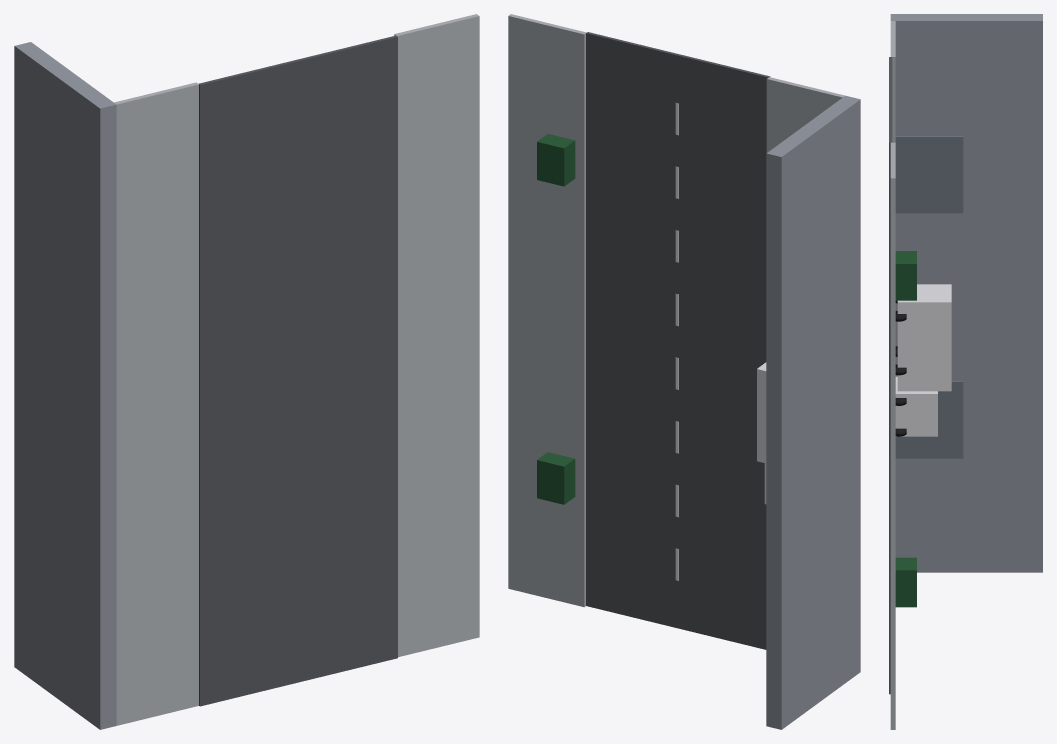
Rendered from industrial_street.obj.
The picture shows the model from 3 angles, left to right: view 1: azimuth 30°, elevation 25°; view 2: azimuth 150°, elevation 25°; view 3: azimuth 270°, elevation 25°; orthographic projection. The views are drawn at different scales.
Visible parts, largest first — view 1: DarkIndustrialGLB; view 2: DarkIndustrialGLB; view 3: DarkIndustrialGLB.
Part boxes in pixels (left/top/right/bottom): DarkIndustrialGLB: left=14, top=14, right=479, bottom=729; DarkIndustrialGLB: left=508, top=14, right=860, bottom=729; DarkIndustrialGLB: left=889, top=14, right=1042, bottom=729.
Size of the model in its own units: 23 by 36 by 9.1.
